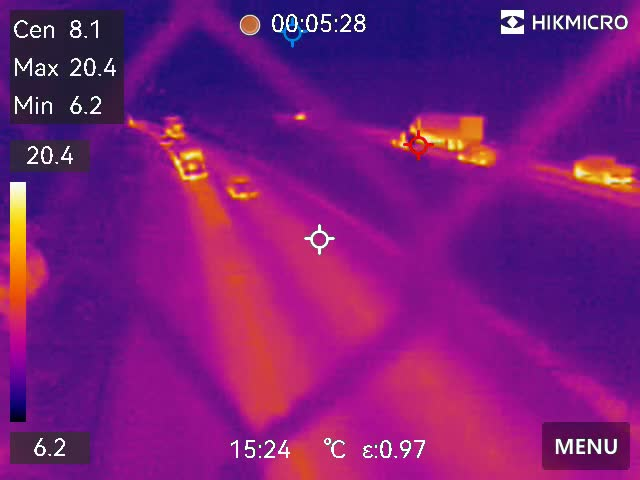heavyTruck: (408, 113, 486, 150)
